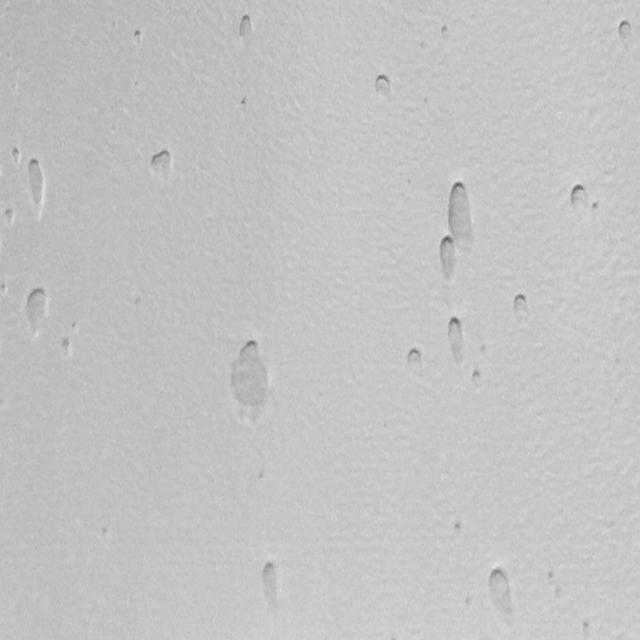pin holes: (229, 338, 275, 418), (481, 560, 516, 625), (444, 180, 476, 243), (22, 286, 52, 336), (23, 156, 49, 211), (443, 314, 471, 364), (436, 233, 464, 282), (148, 146, 178, 186), (258, 560, 283, 604), (510, 290, 534, 324), (371, 71, 396, 102), (569, 180, 592, 212), (235, 12, 258, 42), (404, 346, 426, 376), (616, 18, 636, 48), (1, 207, 18, 232), (451, 518, 470, 539), (551, 585, 569, 607), (132, 27, 148, 51), (58, 336, 74, 359), (471, 367, 486, 388), (439, 23, 453, 42), (10, 147, 23, 166), (580, 618, 594, 635), (590, 200, 603, 217), (238, 97, 251, 111), (0, 282, 10, 299)
